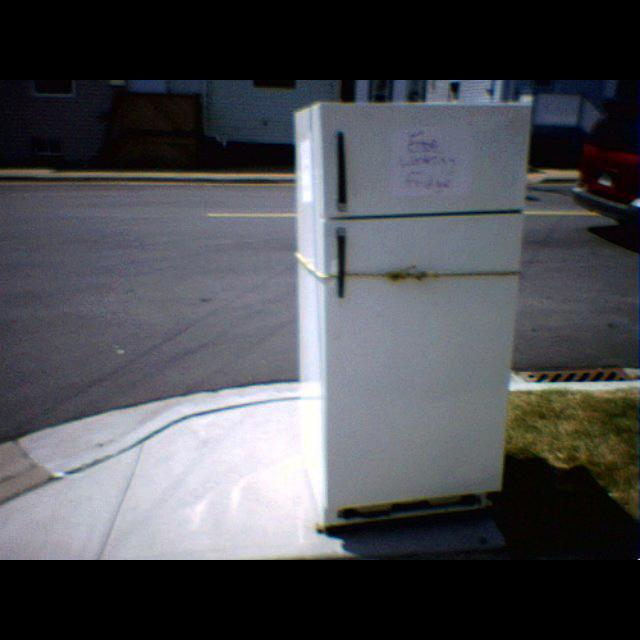Refrigerator: (288, 94, 535, 533)
